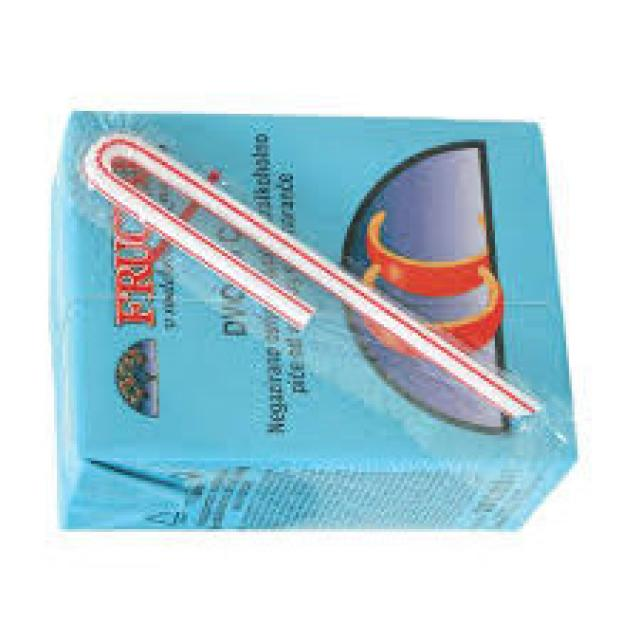non_white_jug: (43, 106, 582, 537)
